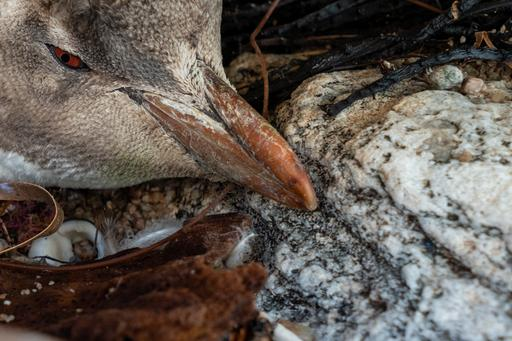Southern Rockhopper Penguin: (0, 0, 338, 234)
